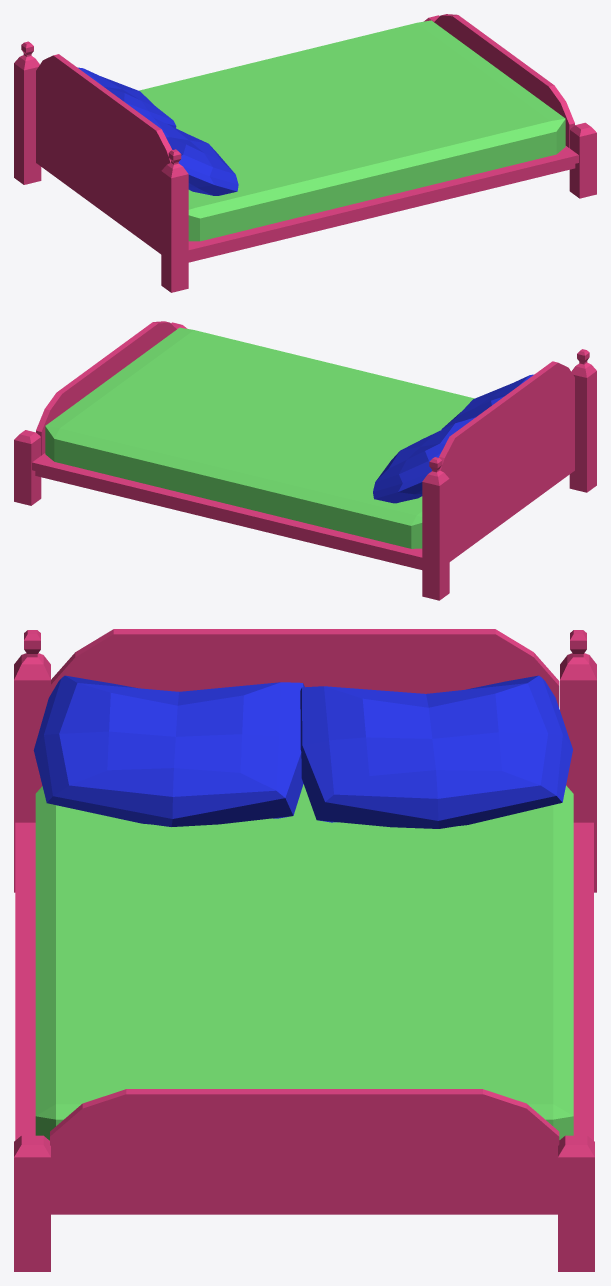
Rendered from double bed.fbx.
The picture shows the model from 3 angles, top to bottom: view 1: azimuth 30°, elevation 25°; view 2: azimuth 150°, elevation 25°; view 3: azimuth 270°, elevation 25°; orthographic projection. The views are drawn at different scales.
Parts seen in each view (by area): view 1: mattress, bed frame, pillow 1, pillow 2; view 2: mattress, bed frame, pillow 2, pillow 1; view 3: mattress, bed frame, pillow 2, pillow 1.
Boxes of the visible parts, x1,y1,x2,y2 form: mattress: (139, 20, 565, 241); bed frame: (14, 14, 596, 292); pillow 1: (141, 114, 238, 195); pillow 2: (77, 67, 176, 127); mattress: (45, 327, 474, 548); bed frame: (14, 321, 596, 600); pillow 2: (373, 417, 475, 503); pillow 1: (441, 374, 533, 429); mattress: (35, 784, 573, 1140); bed frame: (14, 629, 596, 1271); pillow 2: (300, 675, 572, 828); pillow 1: (33, 675, 304, 826).
Bounding box in the file's own units: 1075 × 350 × 688.
